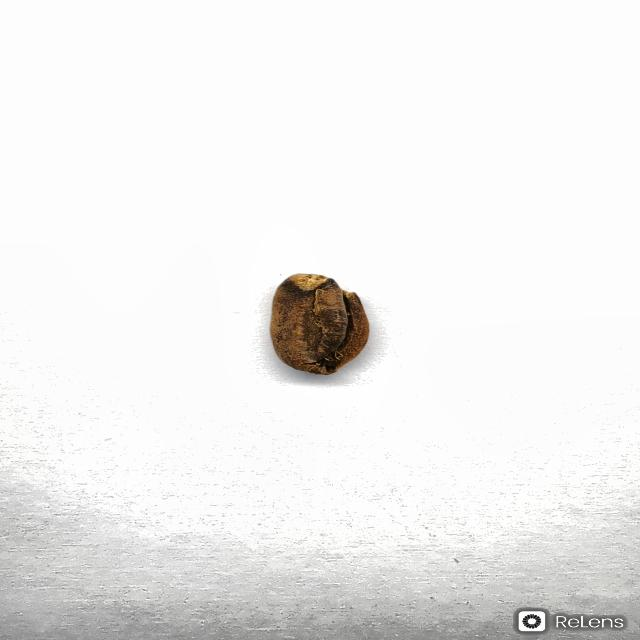Broken: (268, 272, 370, 375)
